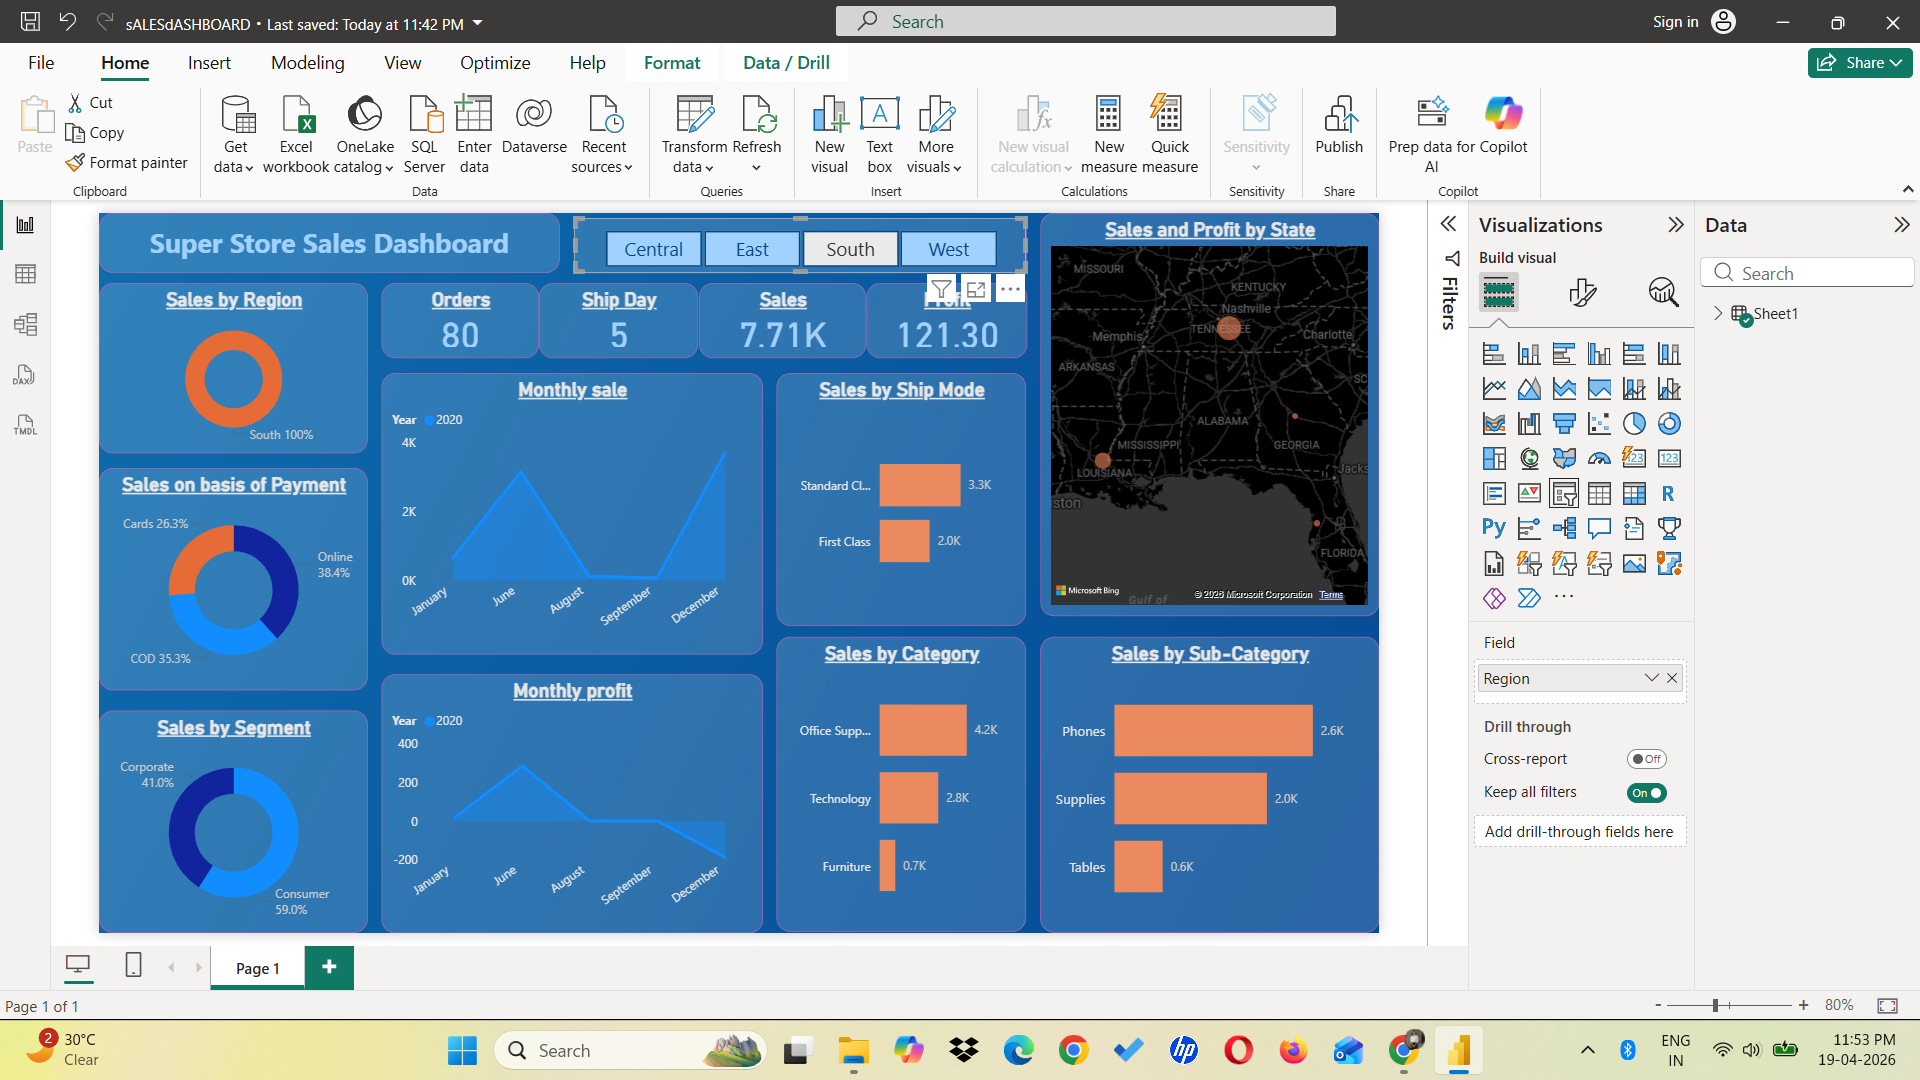

This screenshot's page, from the dashboard's own definition file:
{"tool":"powerbi","page":{"name":"Page 1","canvas":[1280,720],"ordinal":0},"visuals":[{"type":"clusteredBarChart","title":"Sales by Category","fields":{"Category":["Sheet1.Category"],"Y":["Sum(Sheet1.Sales)"]},"box":[677.9,424,249.7,295],"z":0},{"type":"clusteredBarChart","title":"Sales by Sub-Category","fields":{"Category":["Sheet1.Sub-Category"],"Y":["Sum(Sheet1.Sales)"]},"box":[941.3,424,338.9,296.4],"z":1000},{"type":"clusteredBarChart","title":"Sales by Ship Mode","fields":{"Category":["Sheet1.Ship Mode"],"Y":["Sum(Sheet1.Sales)"]},"box":[677.9,160.5,249.7,252.5],"z":2000},{"type":"stackedAreaChart","title":"Monthly profit","fields":{"Category":["Sheet1.Order Date.Variation.Date Hierarchy.Month","Sheet1.Order Date.Variation.Date Hierarchy.Day"],"Series":["Sheet1.Order Date.Variation.Date Hierarchy.Year"],"Y":["Sum(Sheet1.Profit)"]},"box":[282.7,461.1,381.5,259.3],"z":3000},{"type":"stackedAreaChart","title":"Monthly sale ","fields":{"Y":["Sum(Sheet1.Sales)"],"Category":["Sheet1.Order Date.Variation.Date Hierarchy.Month","Sheet1.Order Date.Variation.Date Hierarchy.Day"],"Series":["Sheet1.Order Date.Variation.Date Hierarchy.Year"]},"box":[282.7,160.5,381.5,281.3],"z":4000},{"type":"map","title":"Sales and Profit by State","fields":{"Category":["Sheet1.State"],"Size":["Sum(Sheet1.Sales)"]},"box":[941.3,0,338.9,403.4],"z":5000},{"type":"donutChart","title":"Sales by Segment","fields":{"Category":["Sheet1.Segment"],"Y":["Sum(Sheet1.Sales)"]},"box":[0,498.1,269,222.3],"z":6000},{"type":"donutChart","title":"Sales on basis of Payment","fields":{"Category":["Sheet1.Payment Mode"],"Y":["Sum(Sheet1.Sales)"]},"box":[0,255.2,269,222.3],"z":7000},{"type":"slicer","fields":{"Values":["Sheet1.Region"]},"box":[474.8,5.5,452.8,54.9],"z":8000},{"type":"textbox","box":[0,0,461.1,60.4],"z":9000},{"type":"card","title":"Sales","fields":{"Values":["Sum(Sheet1.Sales)"]},"box":[599.7,70,167.4,75.5],"z":10000},{"type":"card","title":"Profit","fields":{"Values":["Sum(Sheet1.Profit)"]},"box":[767.1,70,160.5,75.5],"z":11000},{"type":"card","title":"Ship Day","fields":{"Values":["Avg(Sheet1.AvgDelivery)"]},"box":[440.5,70,159.2,75.5],"z":12000},{"type":"card","title":"Orders","fields":{"Values":["Sum(Sheet1.Quantity)"]},"box":[282.7,70,157.8,75.5],"z":13000},{"type":"donutChart","title":"Sales by Region","fields":{"Y":["Sum(Sheet1.Sales)"],"Category":["Sheet1.Region"]},"box":[0,70,269,170.2],"z":13001}]}

Visuals, with their boxes on the page's 1280x720 design canvas (x1, y1, x2, y2). These are canvas units, not pixel positions in the 1920x1080 screenshot, which may show the page scaled, cropped or inside an application window:
"Sales by Category" clusteredBarChart: (678, 424, 928, 719)
"Sales by Sub-Category" clusteredBarChart: (941, 424, 1280, 720)
"Sales by Ship Mode" clusteredBarChart: (678, 160, 928, 413)
"Monthly profit" stackedAreaChart: (283, 461, 664, 720)
"Monthly sale " stackedAreaChart: (283, 160, 664, 442)
"Sales and Profit by State" map: (941, 0, 1280, 403)
"Sales by Segment" donutChart: (0, 498, 269, 720)
"Sales on basis of Payment" donutChart: (0, 255, 269, 478)
slicer - Sheet1.Region: (475, 6, 928, 60)
textbox: (0, 0, 461, 60)
"Sales" card: (600, 70, 767, 146)
"Profit" card: (767, 70, 928, 146)
"Ship Day" card: (440, 70, 600, 146)
"Orders" card: (283, 70, 440, 146)
"Sales by Region" donutChart: (0, 70, 269, 240)
